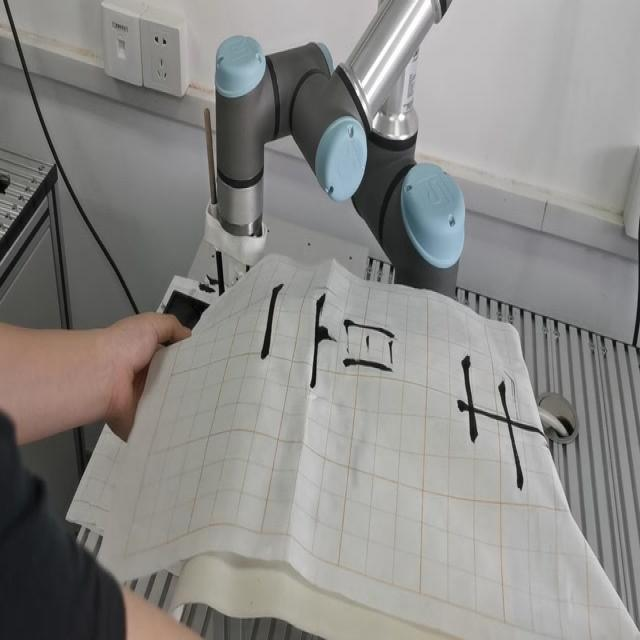writing-brush: (192, 104, 236, 322)
